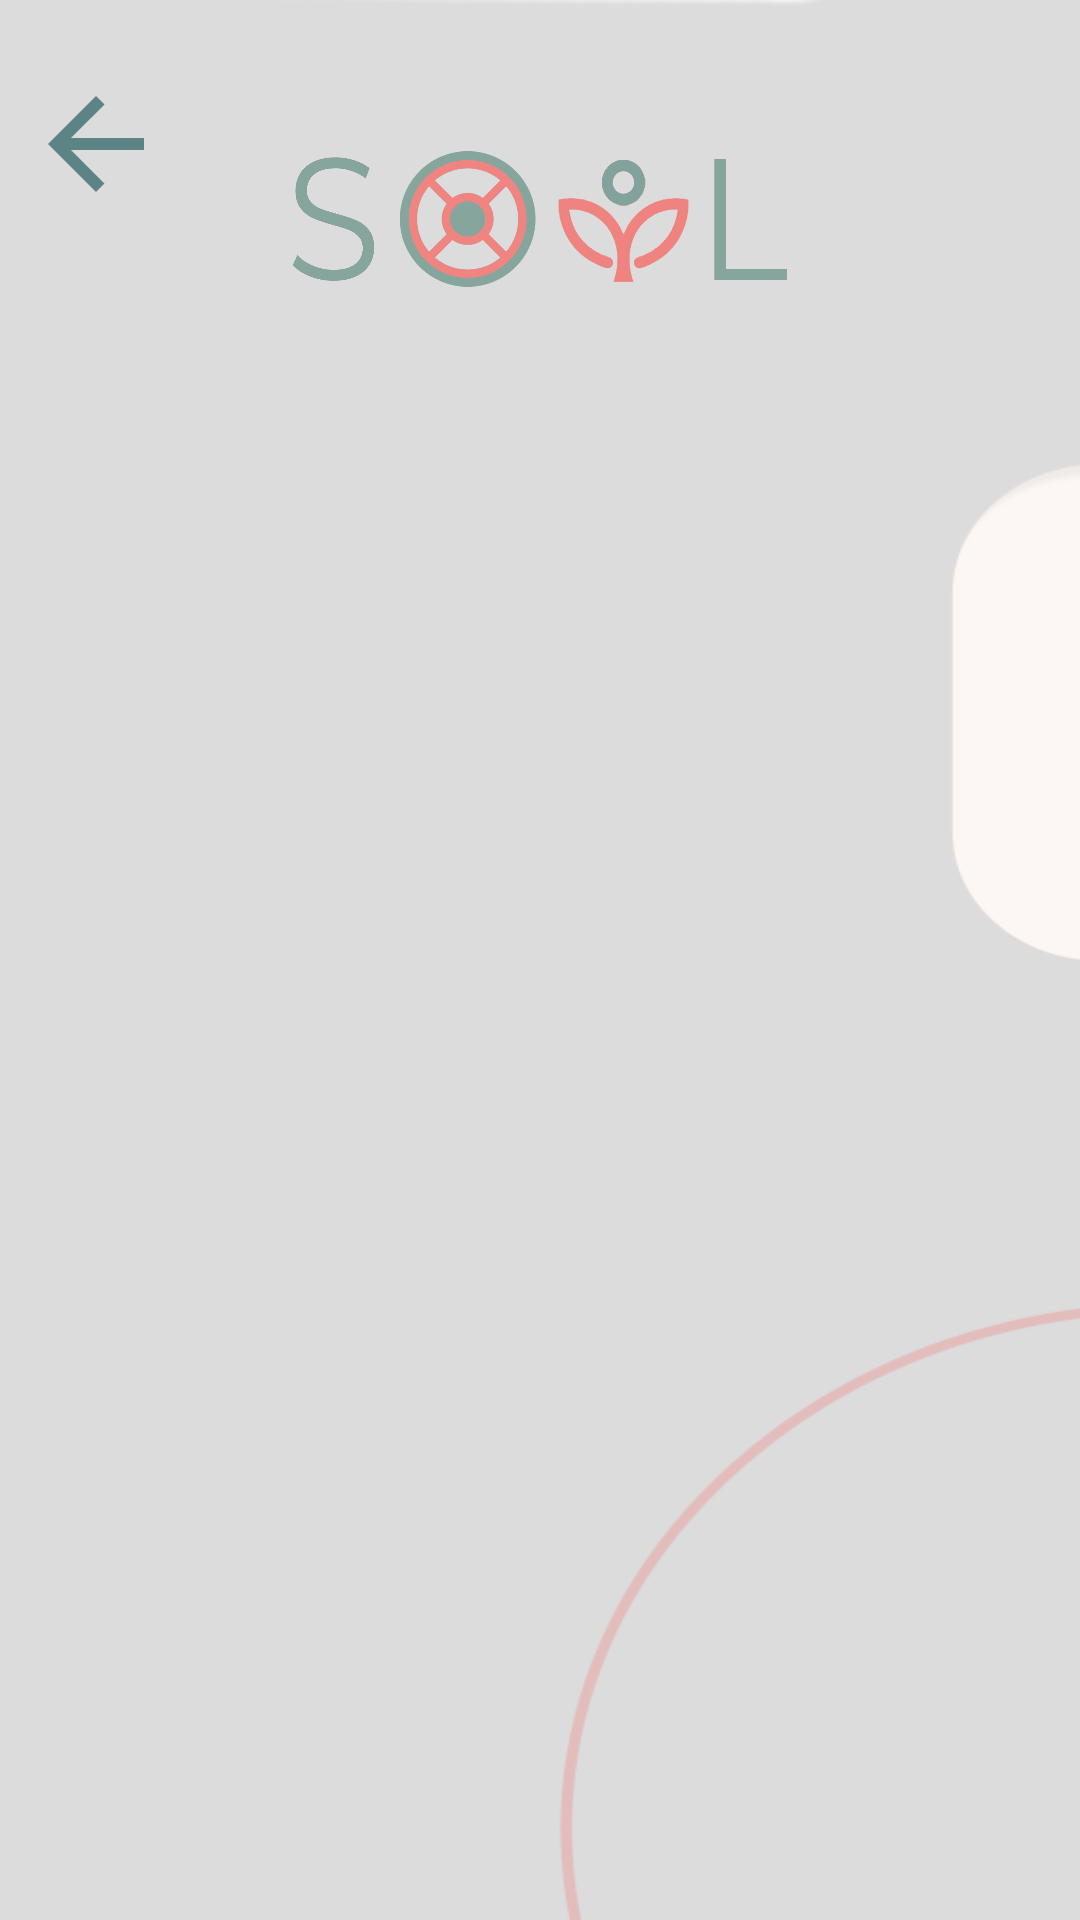

Icon click points for this 1080px×1920px phone screenshot, format (x,y):
back: (96,144)
